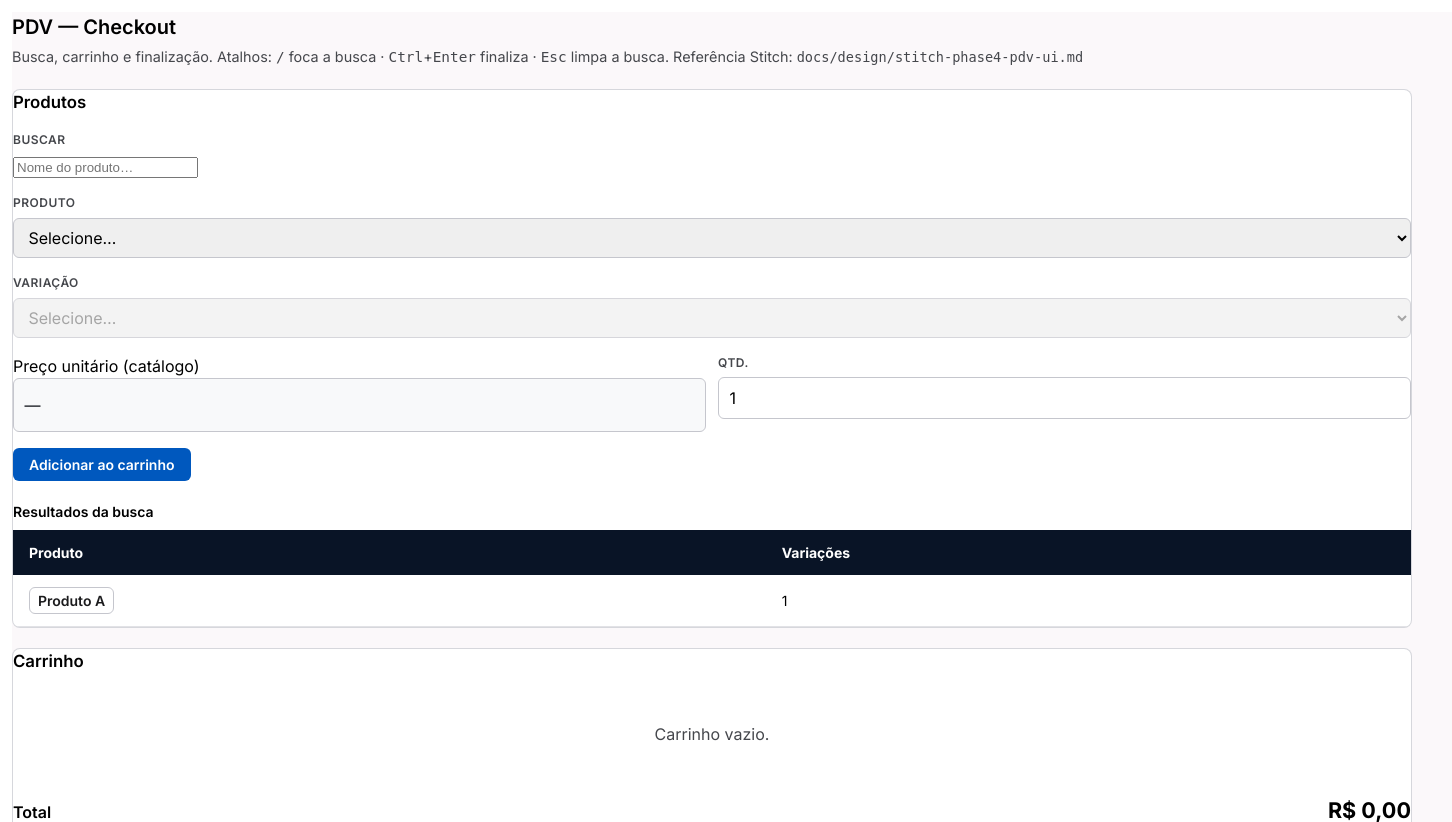
it: PdvPage › mostra erro quando quantidade excede estoque disponível
Select "Produto A" in the dropdown labelled "Produto" at (712, 238), box [13, 218, 1411, 258]
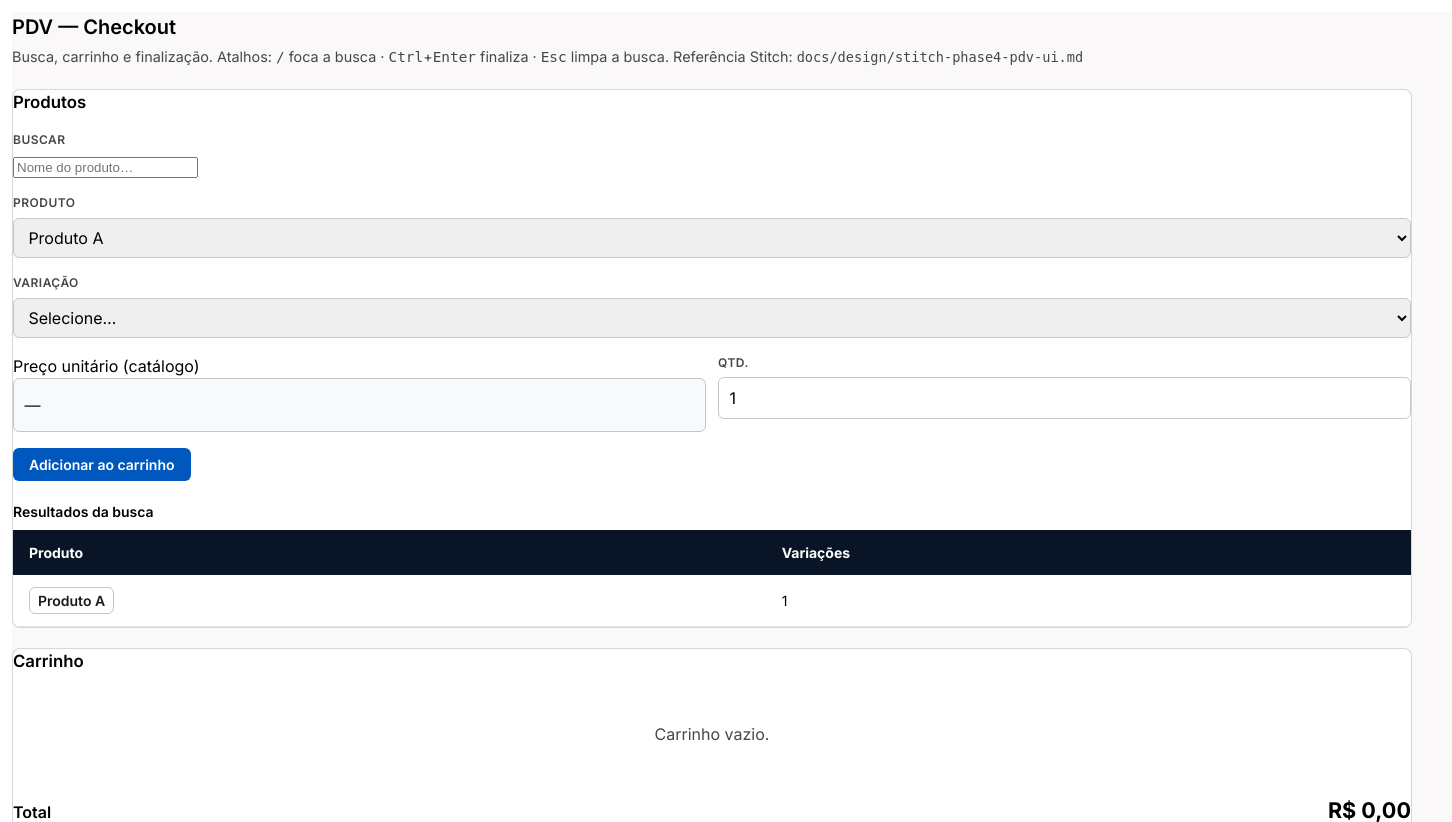
Expected: the dropdown labelled "Variação" is enabled
Select "Única — R$ 29,90 — estoque: 5" in the dropdown labelled "Variação" at (712, 318), box [13, 298, 1411, 338]
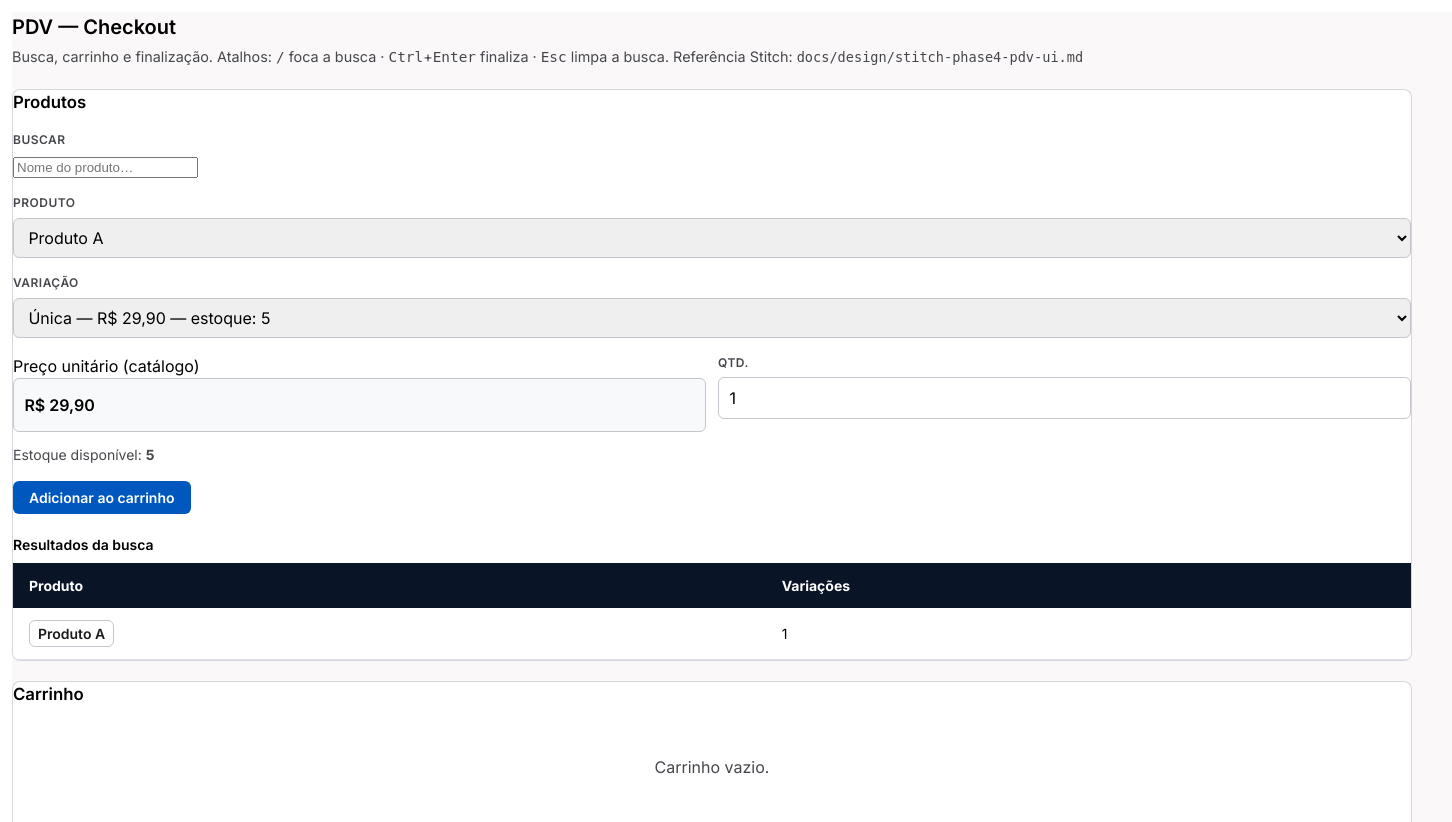
Replace the text in the number field labelled "Qtd." with "99" at (1064, 398), box [718, 377, 1411, 419]
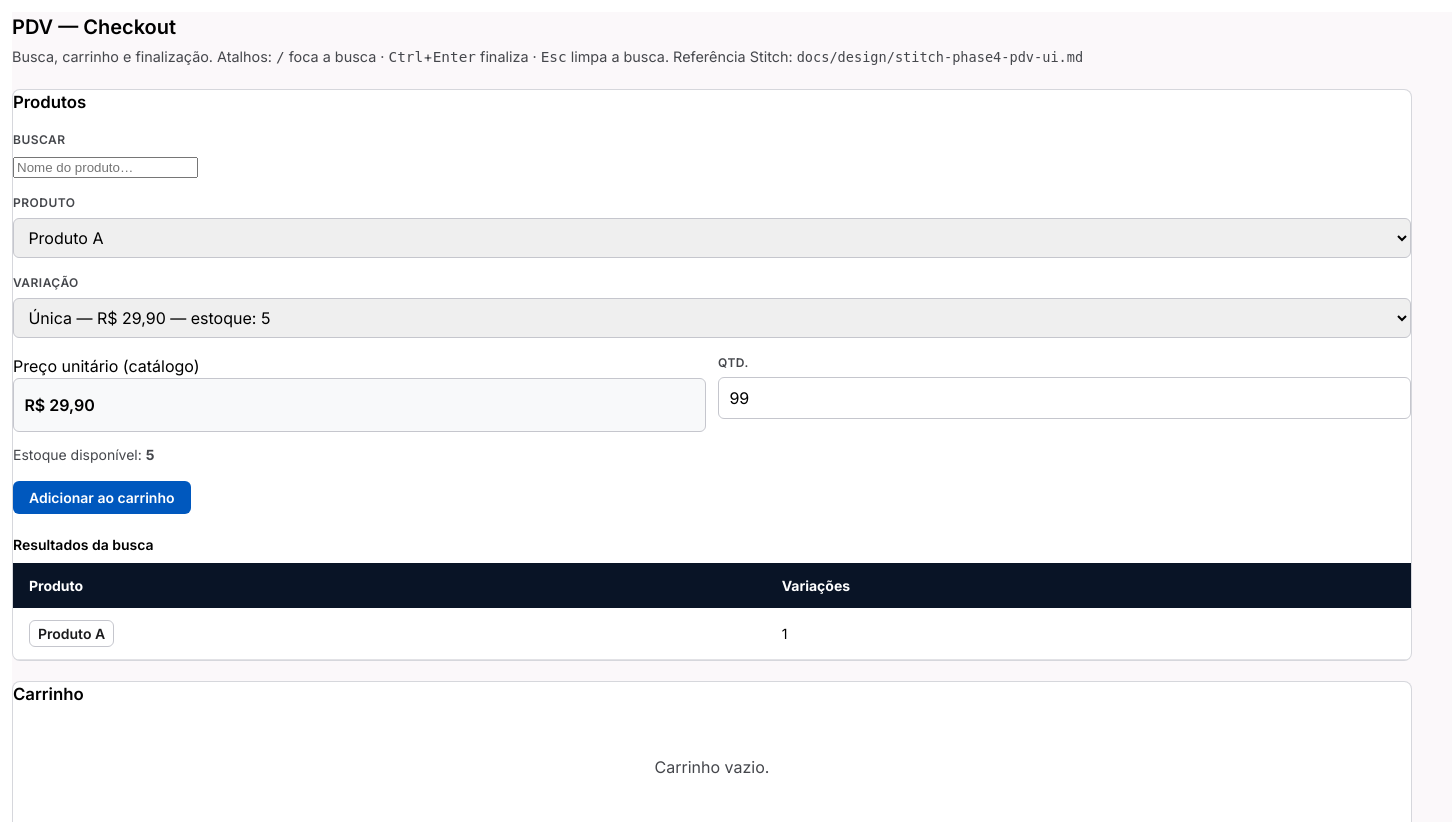
Click the button "Adicionar ao carrinho".
click(102, 497)  # box [13, 481, 190, 514]
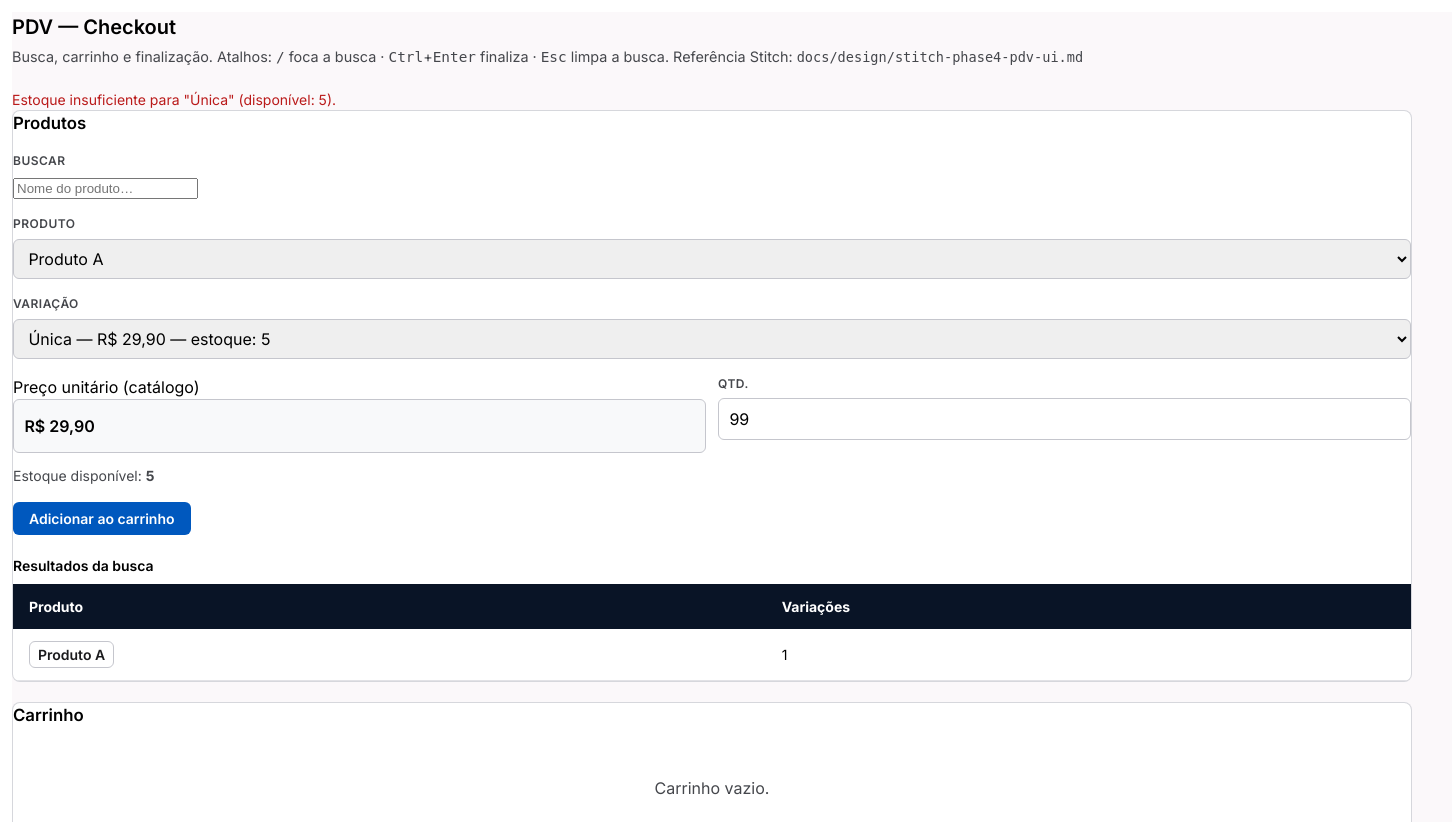
Expected: the text "Estoque insuficiente para \"Única\" (disponível: 5)." is shown, [12, 91, 336, 108]
